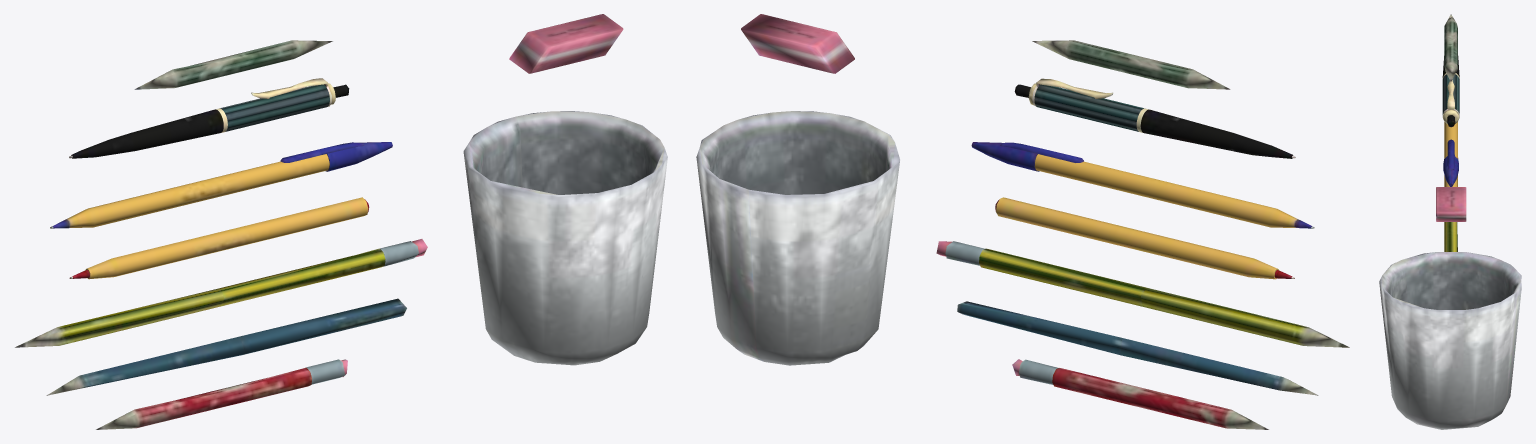
The model's file is stationery_supplies.gltf.
The picture shows the model from 3 angles, left to right: view 1: azimuth 30°, elevation 25°; view 2: azimuth 150°, elevation 25°; view 3: azimuth 270°, elevation 25°; orthographic projection. The views are drawn at different scales.
Parts seen in each view (by area): view 1: stationery_supplies_pencilcup, stationery_supplies_pencil_new_a, stationery_supplies_pen_blue, stationery_supplies_pen_fancy, stationery_supplies_pencil_new_b, stationery_supplies_pen_red, stationery_supplies_pencil_used, stationery_supplies_eraser, stationery_supplies_pencil_old; view 2: stationery_supplies_pencilcup, stationery_supplies_pencil_new_a, stationery_supplies_pen_blue, stationery_supplies_pen_fancy, stationery_supplies_pen_red, stationery_supplies_pencil_new_b, stationery_supplies_pencil_used, stationery_supplies_eraser, stationery_supplies_pencil_old; view 3: stationery_supplies_pencilcup, stationery_supplies_eraser, stationery_supplies_pen_fancy, stationery_supplies_pen_blue, stationery_supplies_pencil_old, stationery_supplies_pencil_new_a.
Part boxes in pixels (x1,y1,x2,y2): stationery_supplies_pencilcup: (463,111,667,365); stationery_supplies_pencil_new_a: (15,239,427,347); stationery_supplies_pen_blue: (50,142,392,228); stationery_supplies_pen_fancy: (69,78,349,158); stationery_supplies_pencil_new_b: (46,298,406,395); stationery_supplies_pen_red: (69,197,369,279); stationery_supplies_pencil_used: (96,359,347,429); stationery_supplies_eraser: (509,14,623,73); stationery_supplies_pencil_old: (134,40,332,89); stationery_supplies_pencilcup: (696,111,899,365); stationery_supplies_pencil_new_a: (936,241,1349,347); stationery_supplies_pen_blue: (971,142,1314,228); stationery_supplies_pen_fancy: (1014,78,1295,158); stationery_supplies_pen_red: (995,197,1294,279); stationery_supplies_pencil_new_b: (957,301,1318,395); stationery_supplies_pencil_used: (1012,359,1268,429); stationery_supplies_eraser: (741,14,854,73); stationery_supplies_pencil_old: (1032,40,1230,89); stationery_supplies_pencilcup: (1379,252,1521,429); stationery_supplies_eraser: (1436,187,1466,221); stationery_supplies_pen_fancy: (1442,56,1459,127); stationery_supplies_pen_blue: (1443,122,1458,186); stationery_supplies_pencil_old: (1444,14,1457,81); stationery_supplies_pencil_new_a: (1444,222,1457,251).
Bounding box in the file's own units: 0.301 × 0.1643 × 0.0828.
1 material, 1 textured.
